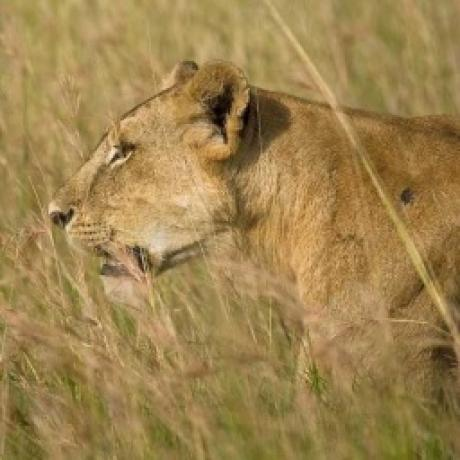Lion: (50, 52, 460, 395)
